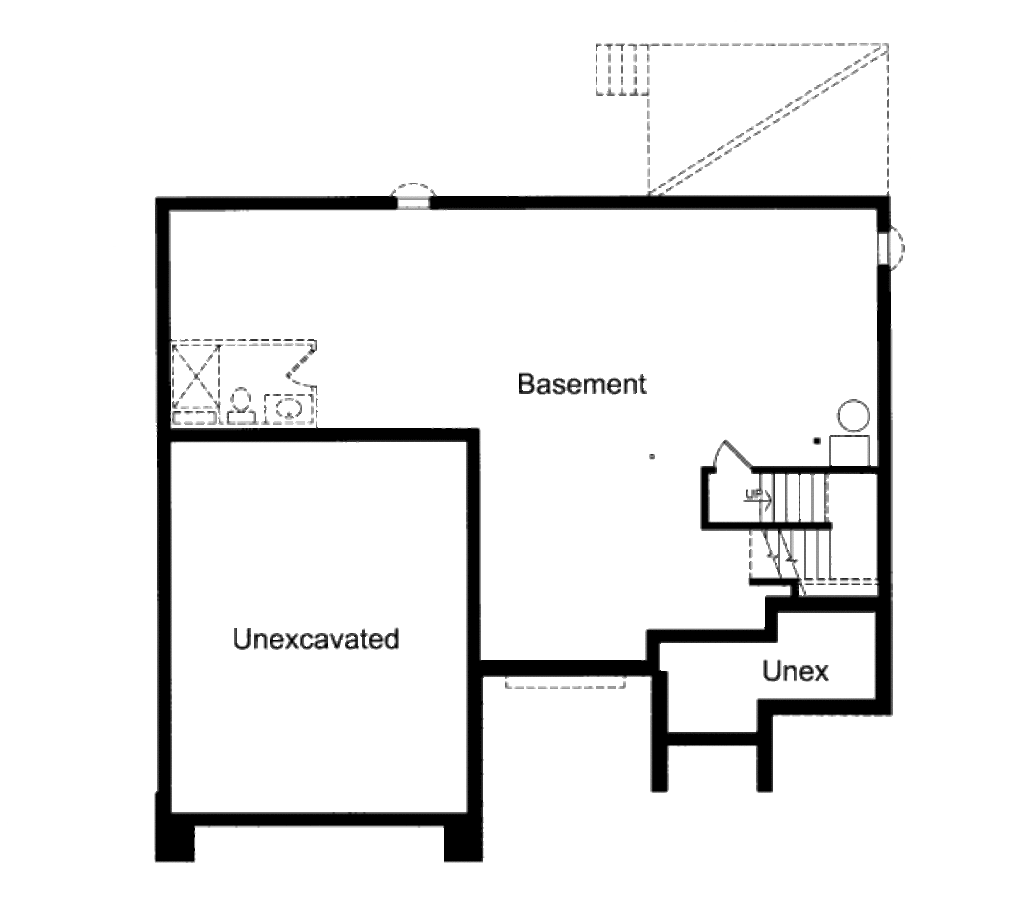large_sink: (219, 385, 260, 428)
small_sink: (263, 390, 314, 424)
stairs: (704, 462, 862, 596)
